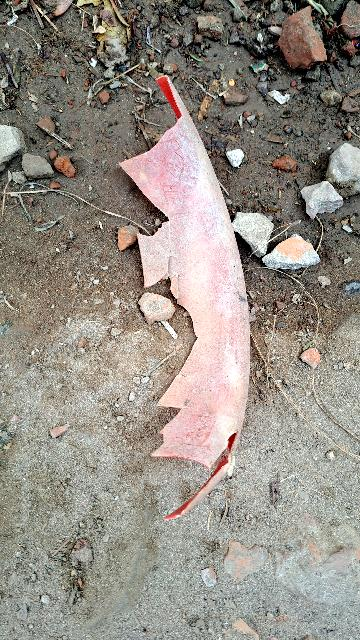hardplastic: (113, 62, 266, 517)
